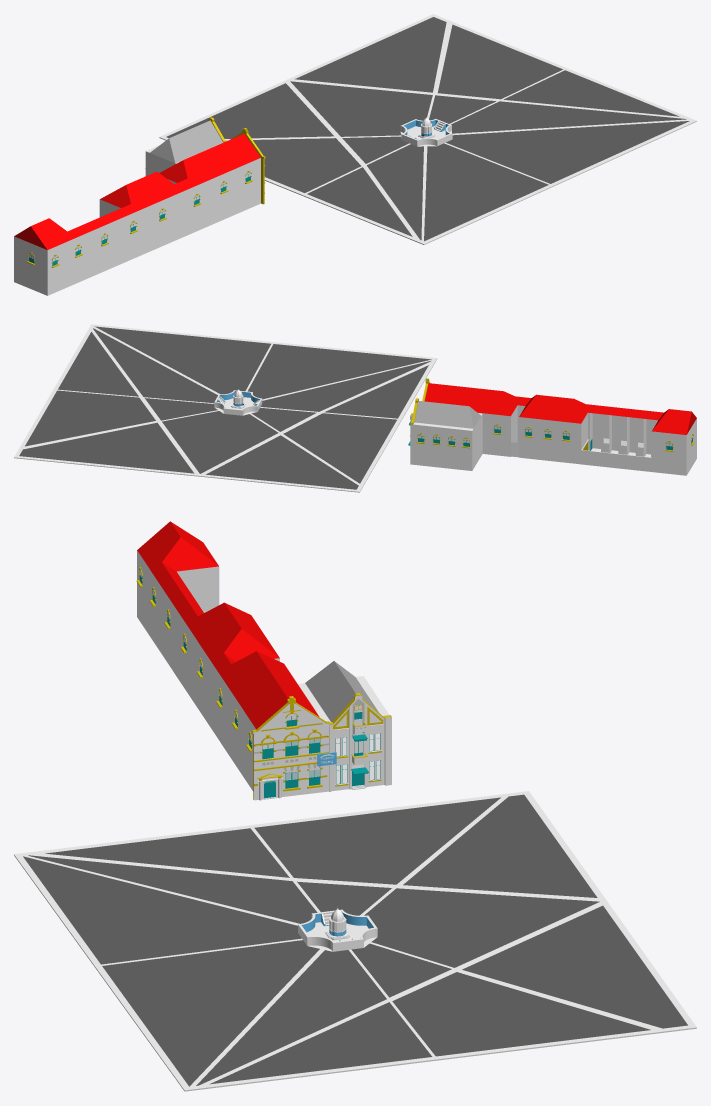
Rendered from museum_wayang_dan_alun-alun.glb.
The picture shows the model from 3 angles, top to bottom: view 1: azimuth 30°, elevation 25°; view 2: azimuth 150°, elevation 25°; view 3: azimuth 270°, elevation 25°; orthographic projection. The views are drawn at different scales.
Visible parts, largest first — view 1: Material2 (×6), Material3; view 2: Material2 (×8), Material3; view 3: Material2 (×7), Material3.
Part boxes in pixels (x1=…): Material2 (×6): x1=14, y1=14, x2=696, y2=295; Material3: x1=150, y1=120, x2=222, y2=163; Material2 (×8): x1=14, y1=324, x2=696, y2=492; Material3: x1=414, y1=401, x2=480, y2=428; Material2 (×7): x1=14, y1=521, x2=696, y2=1091; Material3: x1=305, y1=661, x2=378, y2=721.
Size of the model in its own units: 6538 by 623 by 3911.
